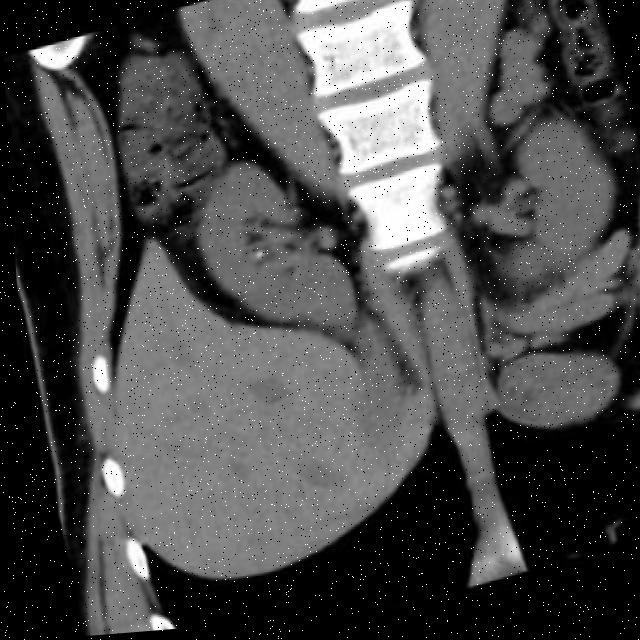Tas_Var: (242, 251, 264, 271)
